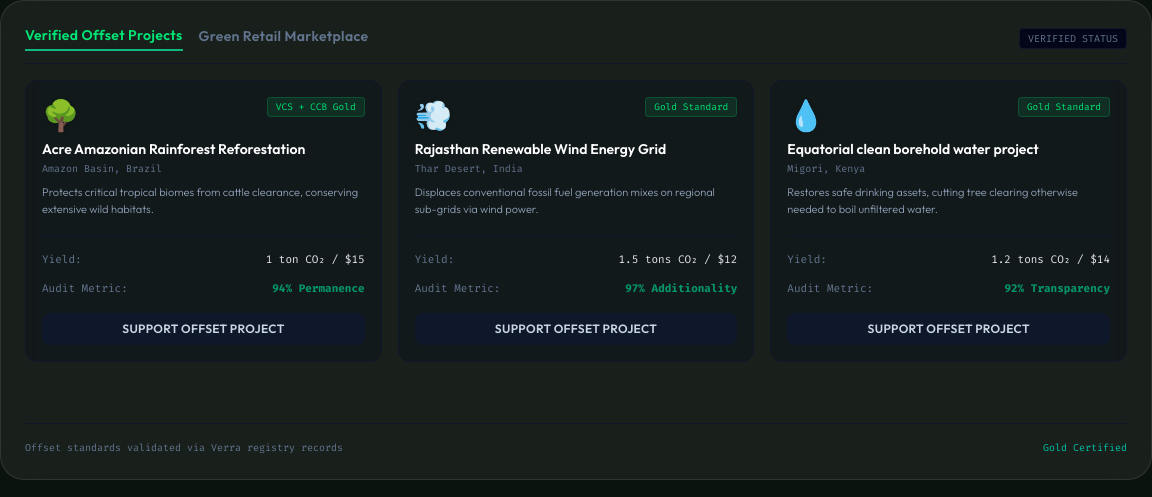
MarketplaceSection Component › can back an offset project
Click the button "Support Offset Project" below "94% Permanence".
click(203, 329)  # box [42,313,365,345]
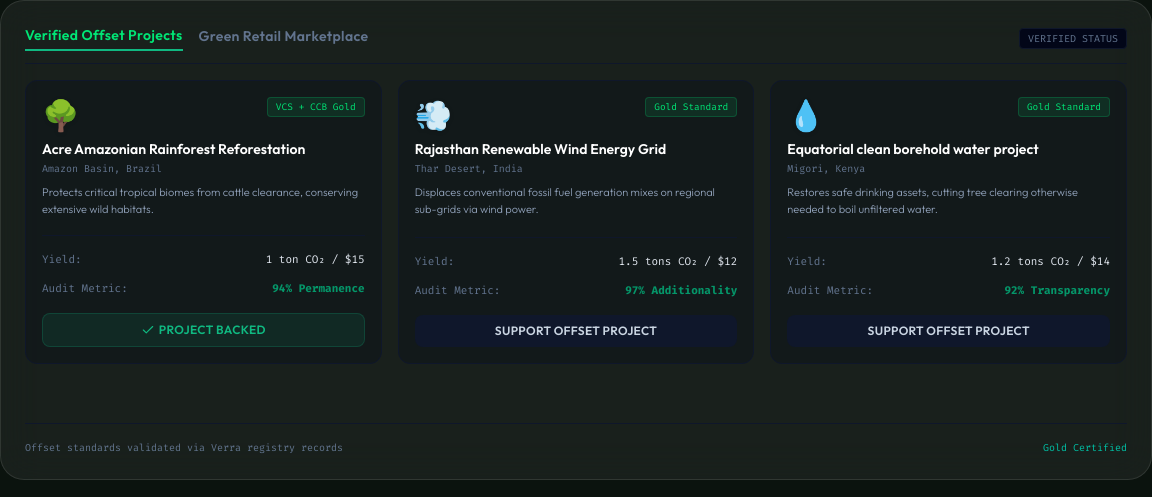
Expected: the text "Project Backed" is shown, [141,322,266,337]
